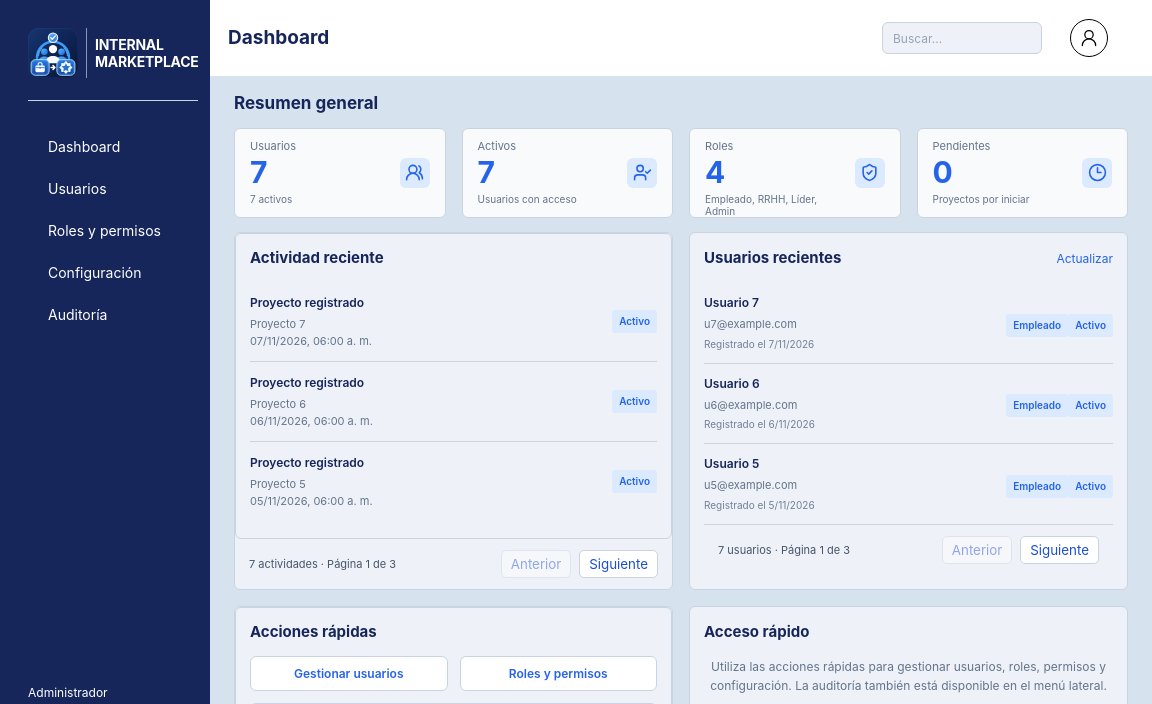
Dashboard del administrador con información reciente › aplica los días y el tamaño de página configurados desde el backend
The image size is (1152, 704).
Check: the text "Usuario 7" is shown, box [704,295,759,310]
Check: the text "Usuario 4" is not shown
Step 1. Click the button "Siguiente" in the row of "usuarios · Página" → (1060,550), box [1020,536,1099,564]
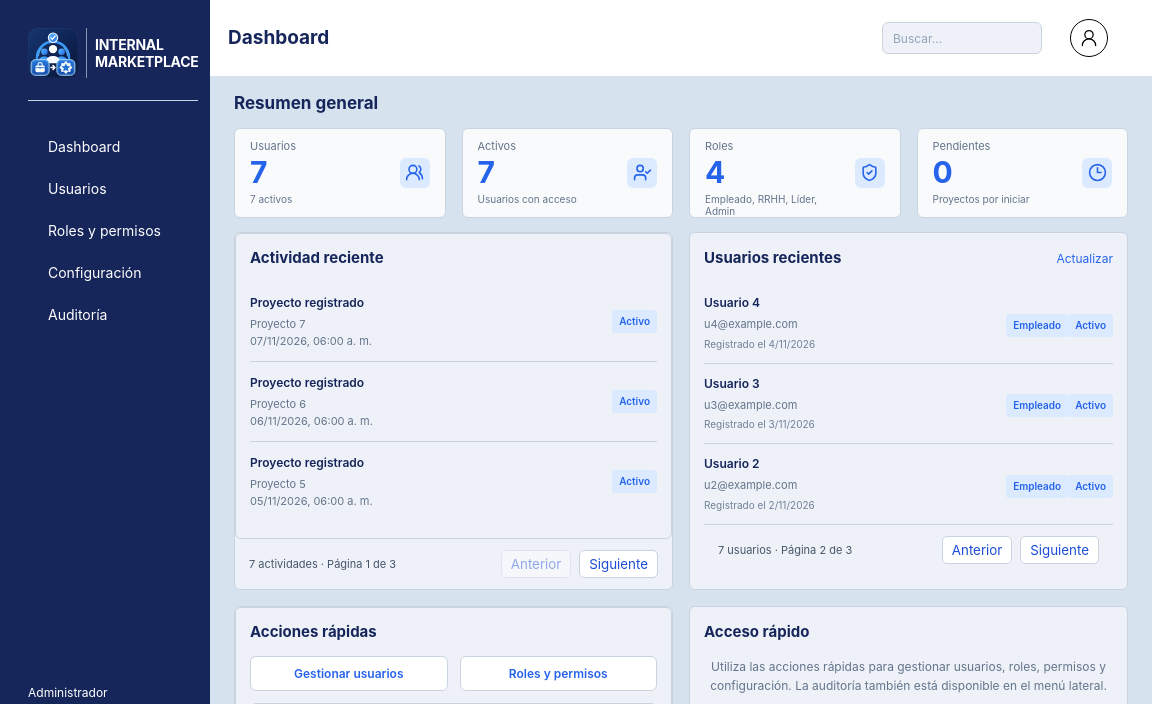
Check: the text "Usuario 4" is shown, box [704,295,760,310]
